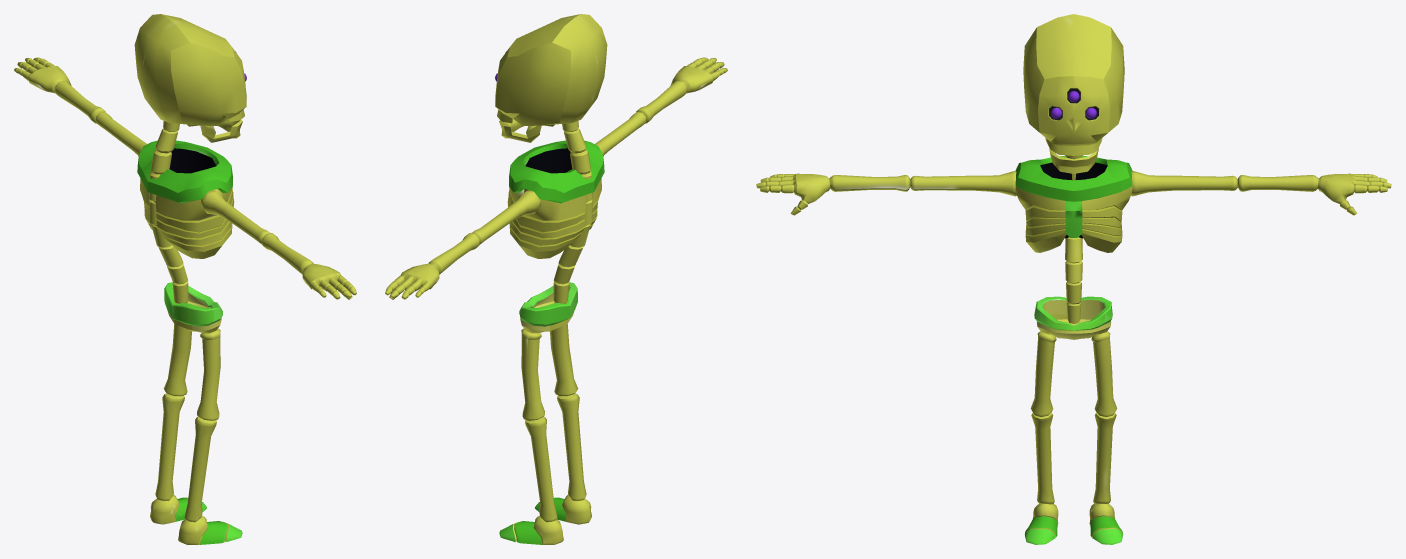
The model's file is esqueleto_alien.glb.
The picture shows the model from 3 angles, left to right: view 1: azimuth 30°, elevation 25°; view 2: azimuth 150°, elevation 25°; view 3: azimuth 270°, elevation 25°; orthographic projection.
Parts seen in each view (by area): view 1: _100Avatars_109_AlienSkeleton; view 2: _100Avatars_109_AlienSkeleton; view 3: _100Avatars_109_AlienSkeleton.
Boxes of the visible parts, <box> form: _100Avatars_109_AlienSkeleton: <box>14,14,356,544</box>; _100Avatars_109_AlienSkeleton: <box>385,14,727,544</box>; _100Avatars_109_AlienSkeleton: <box>756,14,1391,544</box>.
Bounding box in the file's own units: 1.05 × 5.27 × 6.02.
Materials: 1 (1 with a texture image).
